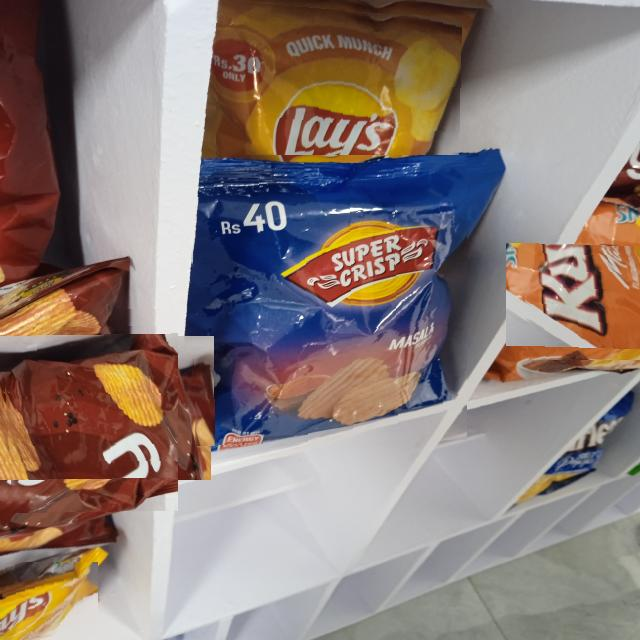Plastic: (191, 163, 467, 446), (216, 0, 462, 155), (0, 302, 178, 513), (521, 227, 640, 360), (0, 562, 98, 640)
